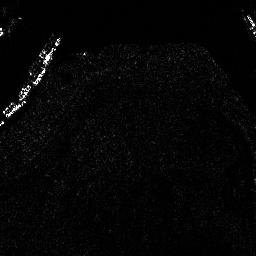ship: (3, 99, 23, 117), (40, 45, 56, 65), (34, 66, 46, 84), (19, 83, 31, 100)
